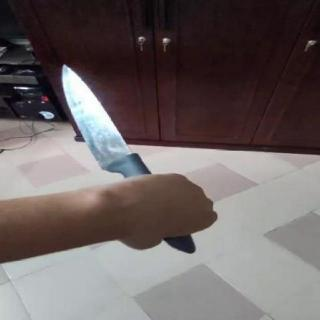knife: (52, 62, 170, 176)
